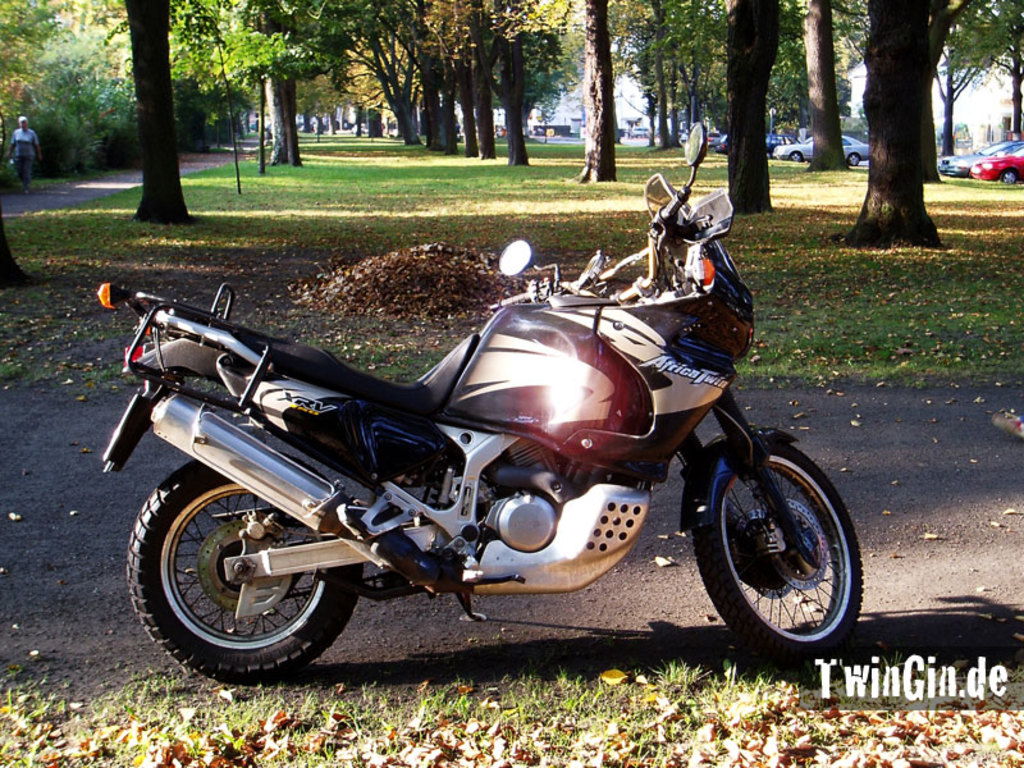Car: (774, 131, 870, 165), (940, 143, 1022, 174), (970, 149, 1022, 180)
